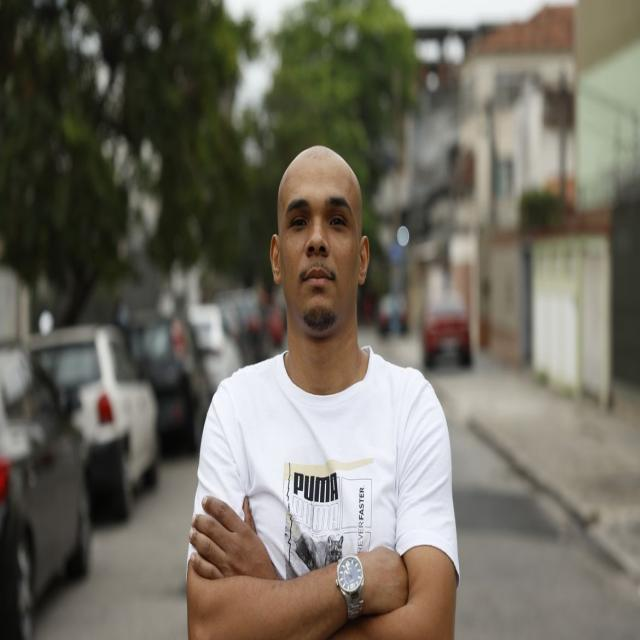sem_oculos: (273, 196, 370, 238)
